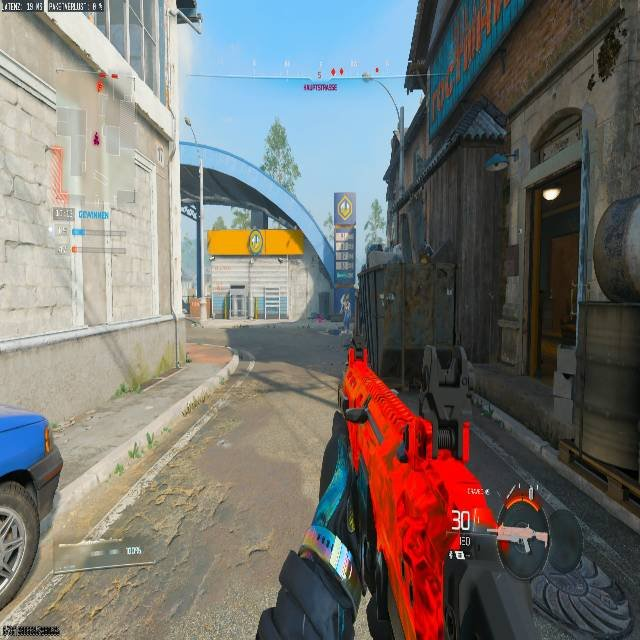player: (340, 294, 350, 323)
